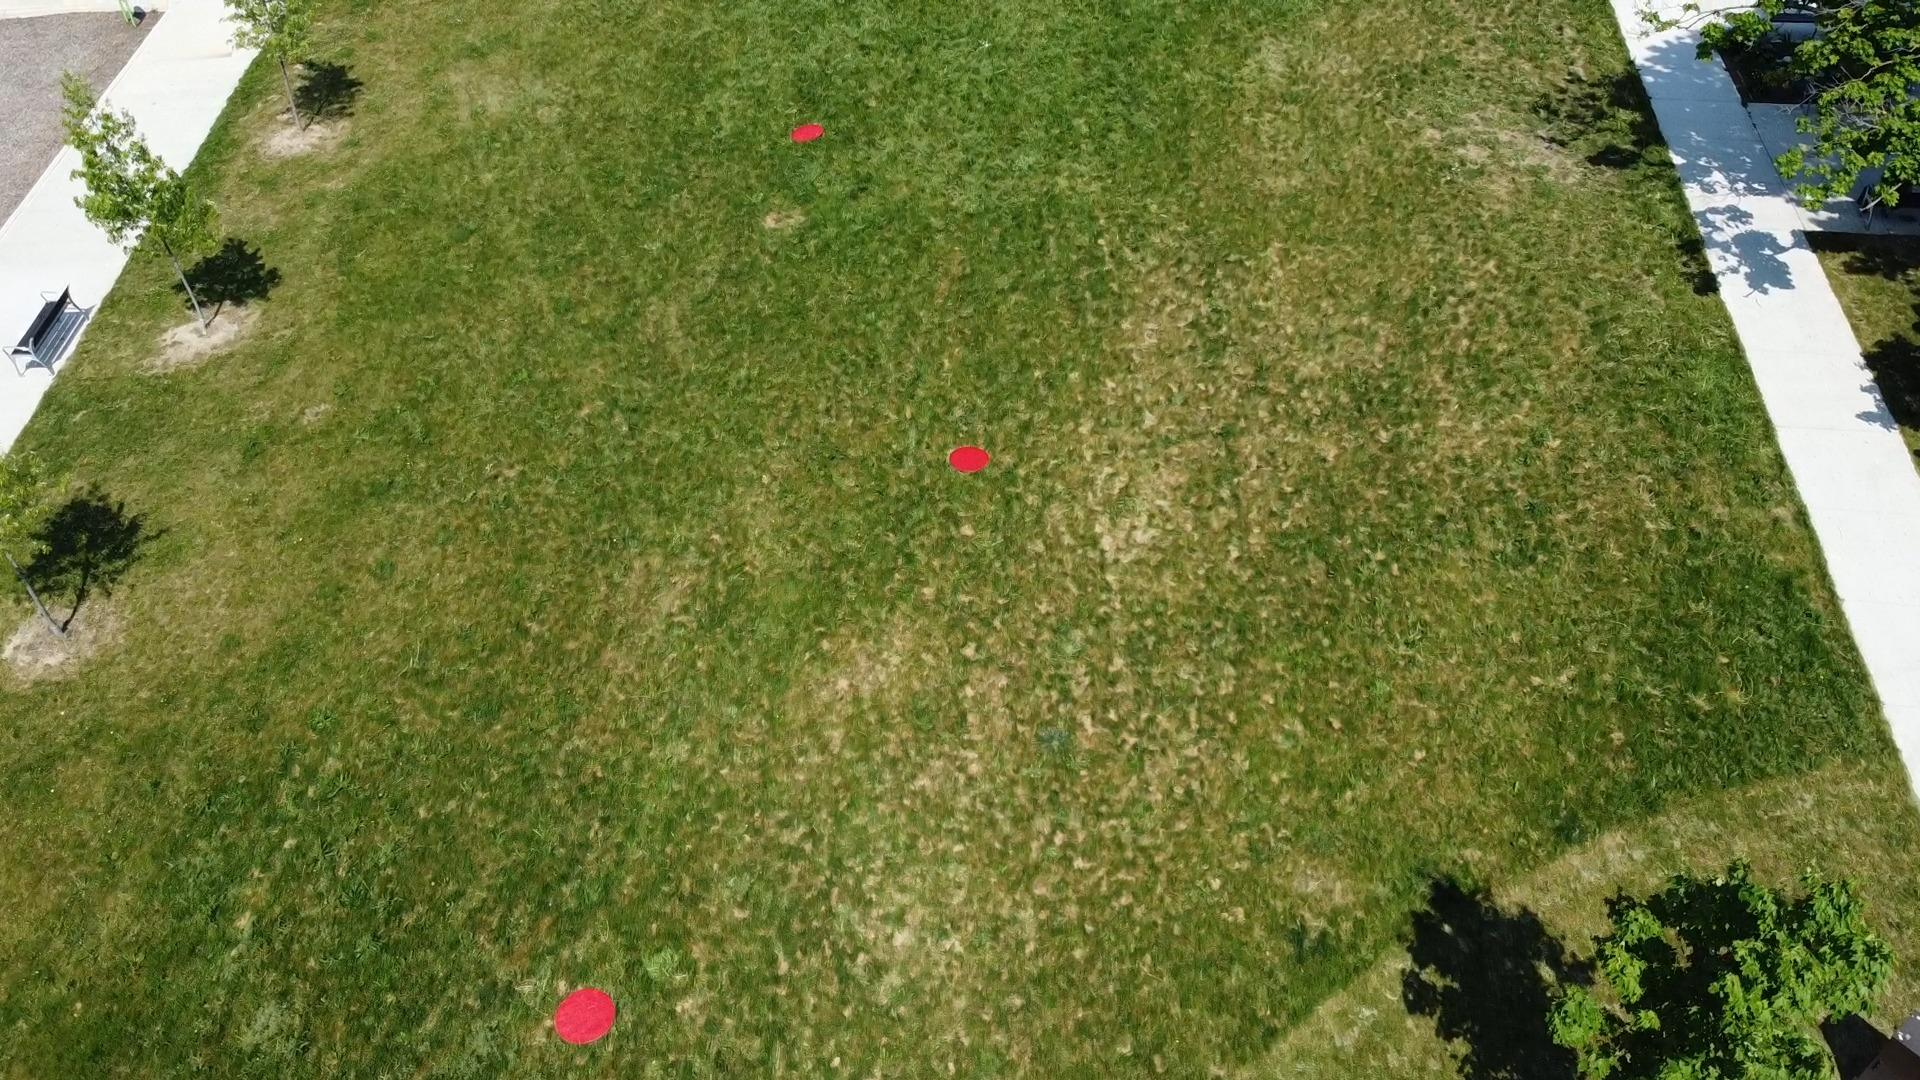Red: (549, 986, 621, 1047), (947, 443, 992, 477), (789, 123, 828, 145)
